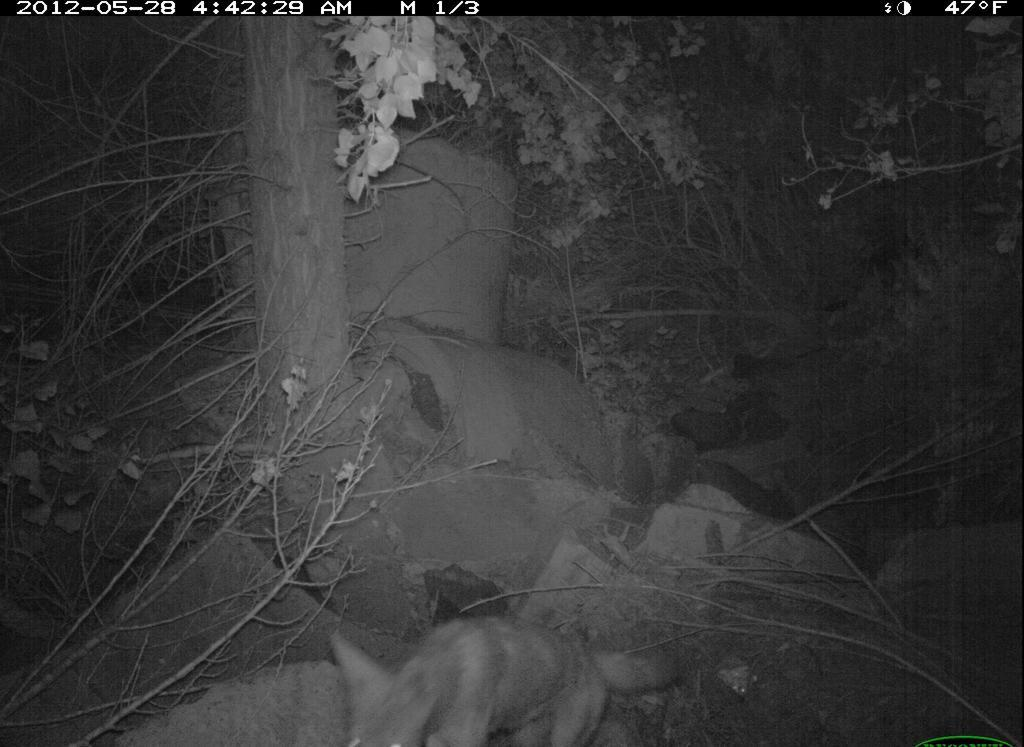coyote: (319, 556, 697, 737)
